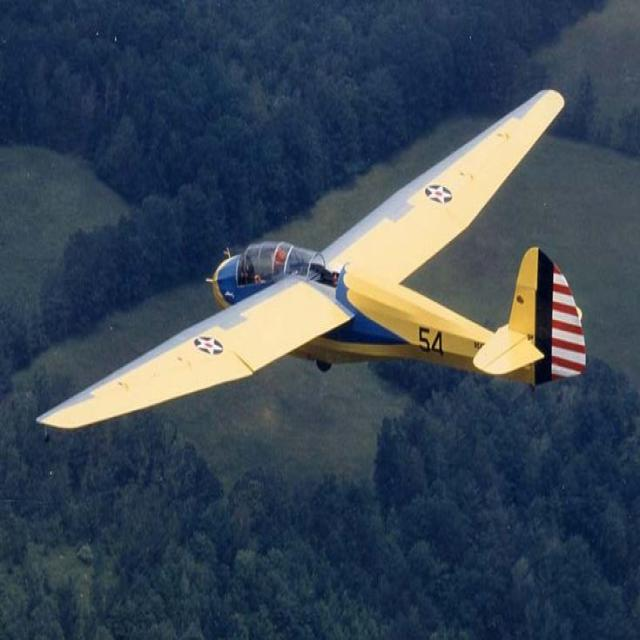iha: (34, 84, 590, 434)
